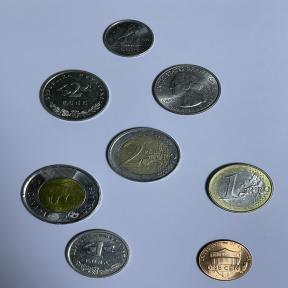coin: (18, 162, 104, 226), (34, 66, 114, 124), (104, 125, 182, 184), (148, 61, 228, 116), (194, 237, 254, 283), (101, 18, 156, 58)
